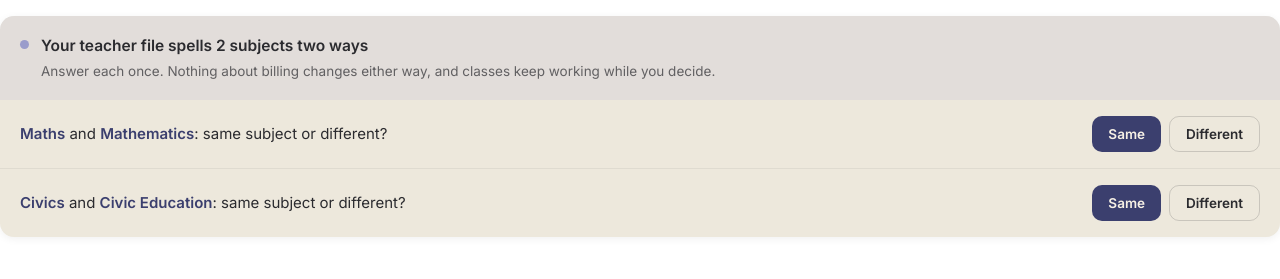
Test: subject spellings › keeps the question and says so when an answer doesn't save
Expected: the heading "Your teacher file spells 2 subjects two ways" is shown, [41,36,368,55]
What coordinates should you click on to do the following:
click the button "Same" in the row of "Maths"
I would click on:
 (1127, 134)
Its box is [1092,116,1161,152].
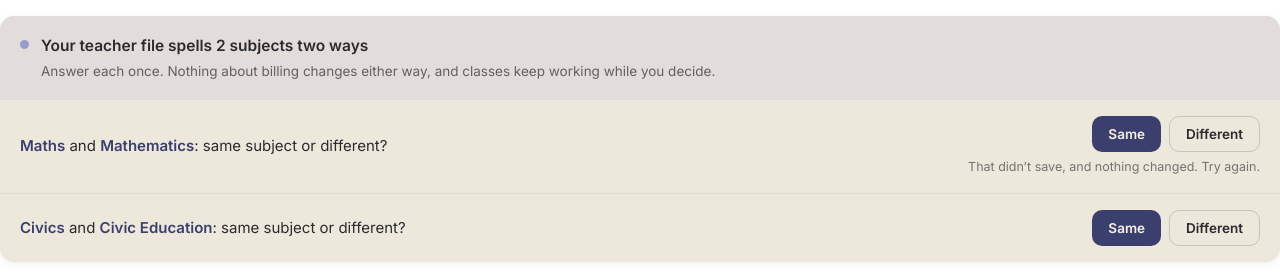
Now the text "That didn’t save, and nothing changed. Try again." is shown, box [968,158,1260,177]
